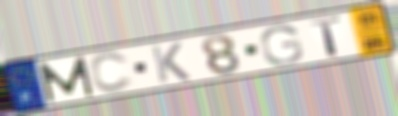8: (200, 34, 242, 76)
C: (87, 51, 137, 94)
G: (257, 24, 305, 66)
K: (148, 40, 194, 85)
M: (36, 55, 97, 105)
T: (308, 15, 345, 58)
